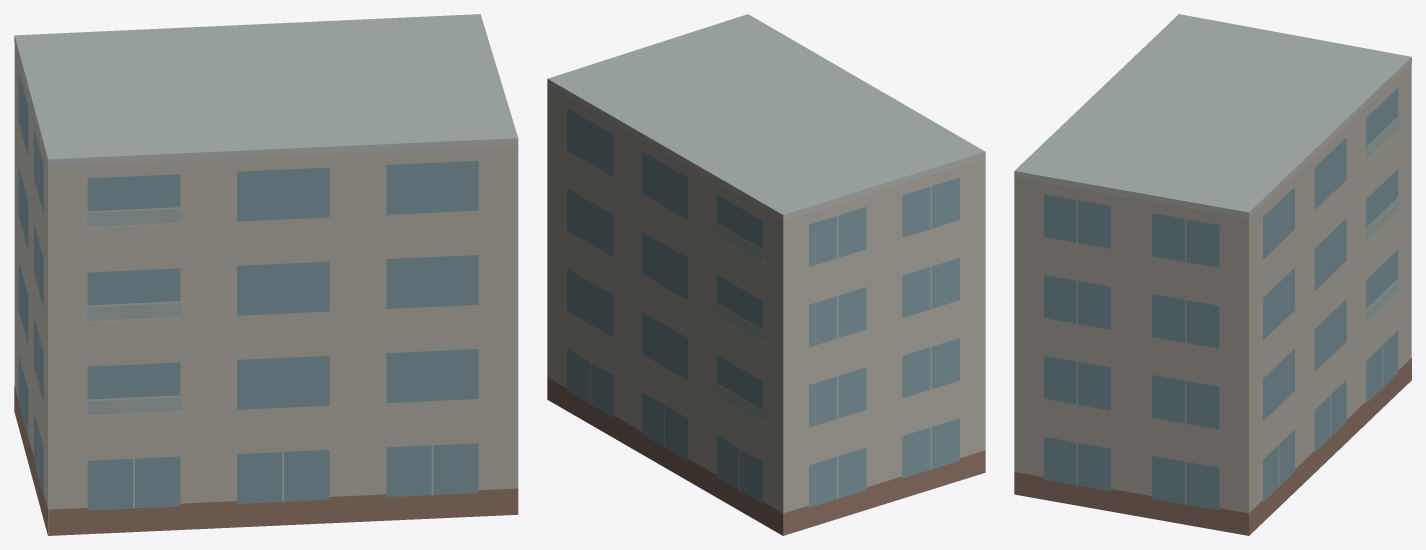
Rendered from survey-upis-32670341.glb.
3 renders of one model, left to right at view 1: azimuth 30°, elevation 25°; view 2: azimuth 150°, elevation 25°; view 3: azimuth 270°, elevation 25°, orthographic. The views are drawn at different scales.
Parts seen in each view (by area): view 1: survey-upis-32670341.tmp; view 2: survey-upis-32670341.tmp; view 3: survey-upis-32670341.tmp.
Boxes of the visible parts, left/top/right/bottom form: survey-upis-32670341.tmp: left=14, top=14, right=518, bottom=535; survey-upis-32670341.tmp: left=547, top=14, right=985, bottom=535; survey-upis-32670341.tmp: left=1014, top=14, right=1411, bottom=535.
Size of the model in its own units: 16.85 by 12.8 by 14.26.
